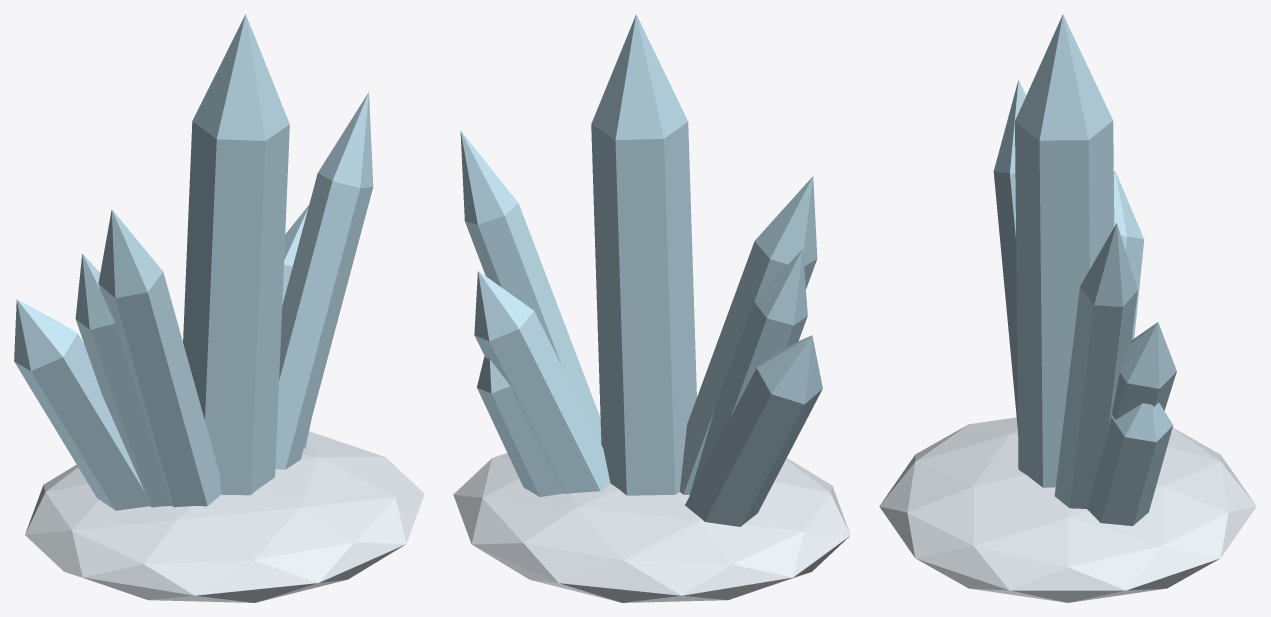
The model's file is runtime.glb.
3 renders of one model, left to right at view 1: azimuth 30°, elevation 25°; view 2: azimuth 150°, elevation 25°; view 3: azimuth 270°, elevation 25°, orthographic.
Parts seen in each view (by area): view 1: frozen_crystal_ice_nocol, frozen_crystal_snow_noshadow_nocol; view 2: frozen_crystal_ice_nocol, frozen_crystal_snow_noshadow_nocol; view 3: frozen_crystal_ice_nocol, frozen_crystal_snow_noshadow_nocol.
Boxes of the visible parts, x1,y1,x2,y2 form: frozen_crystal_ice_nocol: [14, 14, 373, 510]; frozen_crystal_snow_noshadow_nocol: [25, 431, 424, 602]; frozen_crystal_ice_nocol: [460, 14, 822, 526]; frozen_crystal_snow_noshadow_nocol: [453, 453, 850, 602]; frozen_crystal_ice_nocol: [993, 14, 1176, 525]; frozen_crystal_snow_noshadow_nocol: [879, 417, 1256, 602].
Bounding box in the file's own units: 2.95 × 4.27 × 2.69.
